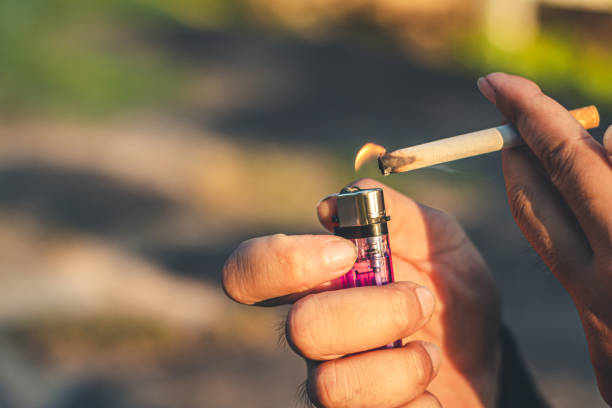cigarette: (378, 105, 601, 178)
